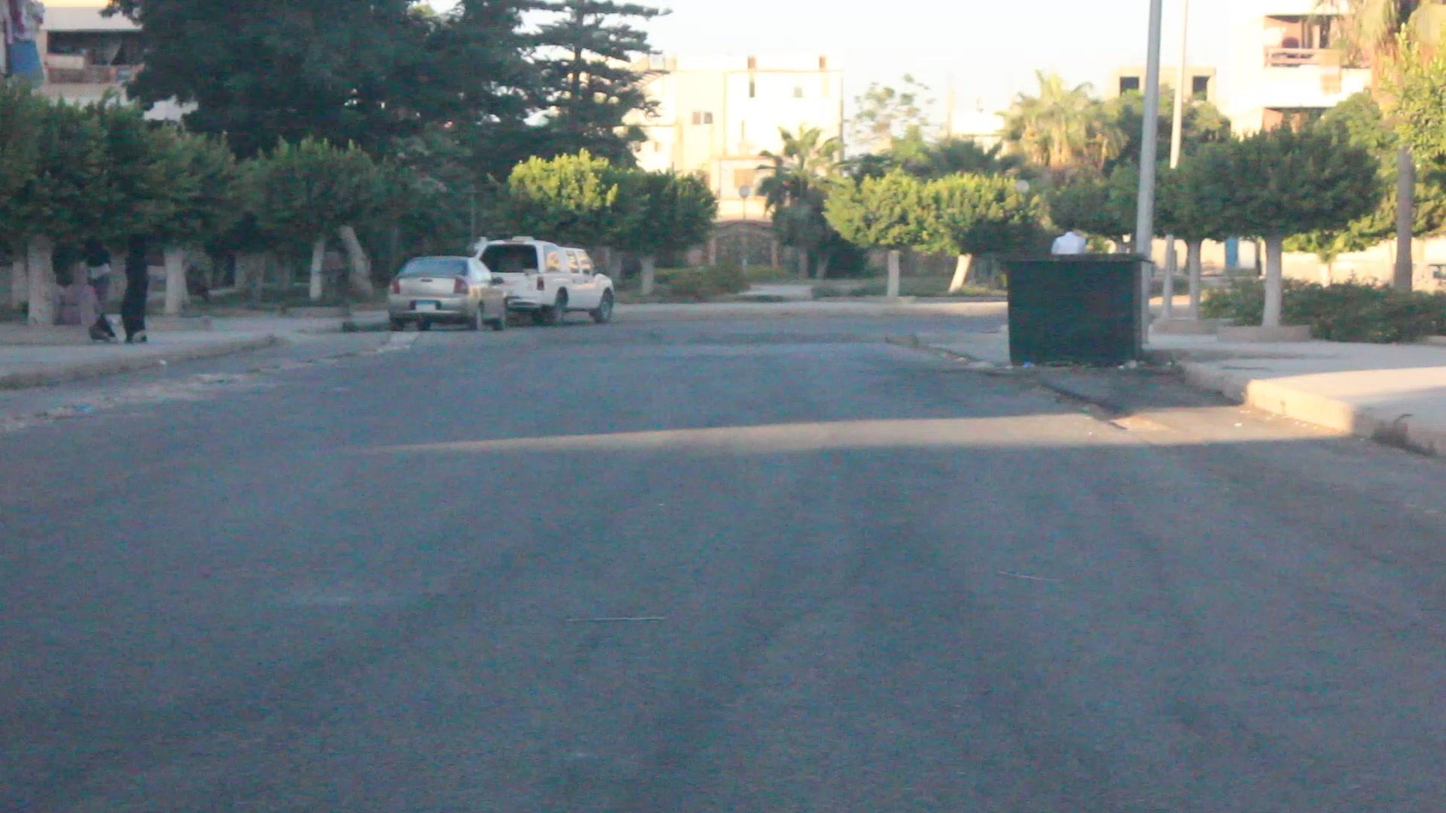Bump: (352, 320, 921, 350)
